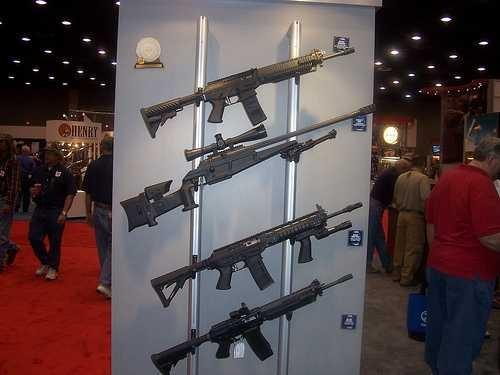heavyweapon: (116, 96, 396, 232), (142, 192, 385, 315), (133, 33, 369, 147), (146, 266, 364, 375)
